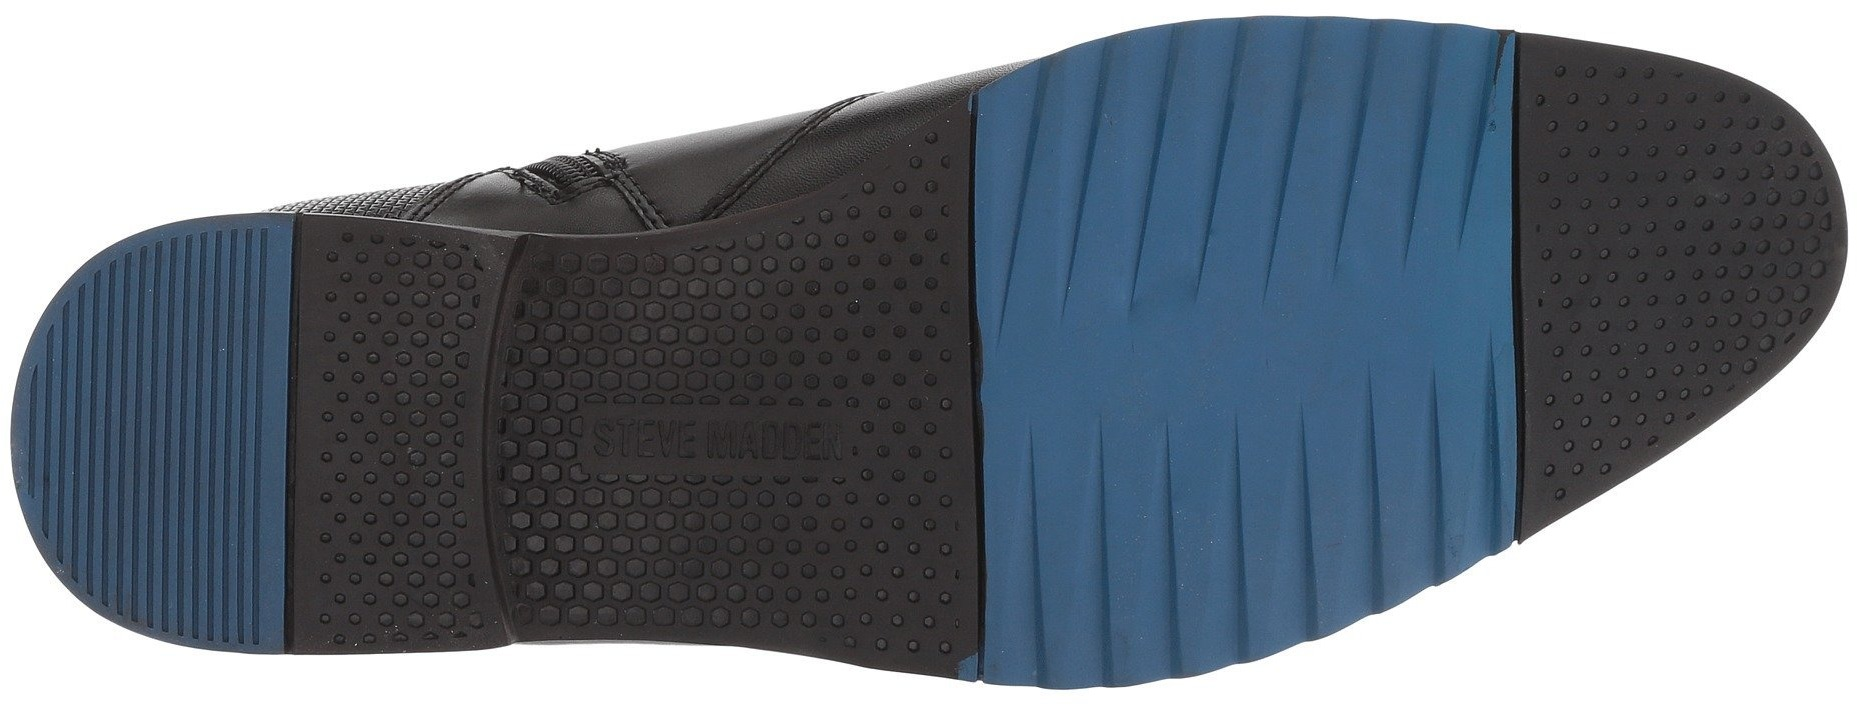circle: (1529, 69, 1714, 251), (754, 222, 940, 400), (1531, 256, 1713, 423), (550, 475, 719, 636), (551, 249, 721, 406), (325, 246, 476, 391), (319, 495, 465, 633)
exclude: (243, 0, 1081, 239)
line: (989, 68, 1514, 585)
other: (94, 273, 263, 438), (756, 472, 928, 632), (96, 434, 261, 592)
text: (706, 406, 778, 478), (778, 408, 848, 478), (589, 405, 662, 472), (636, 408, 703, 474)
